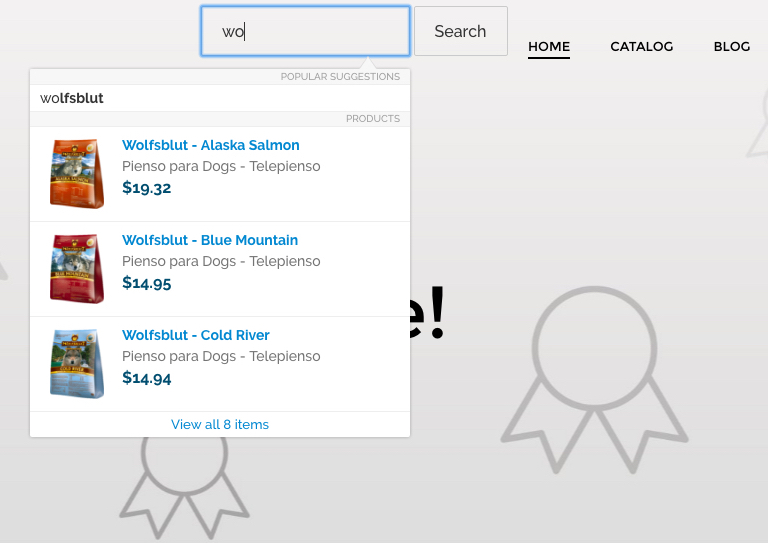search_box: (198, 4, 511, 58)
